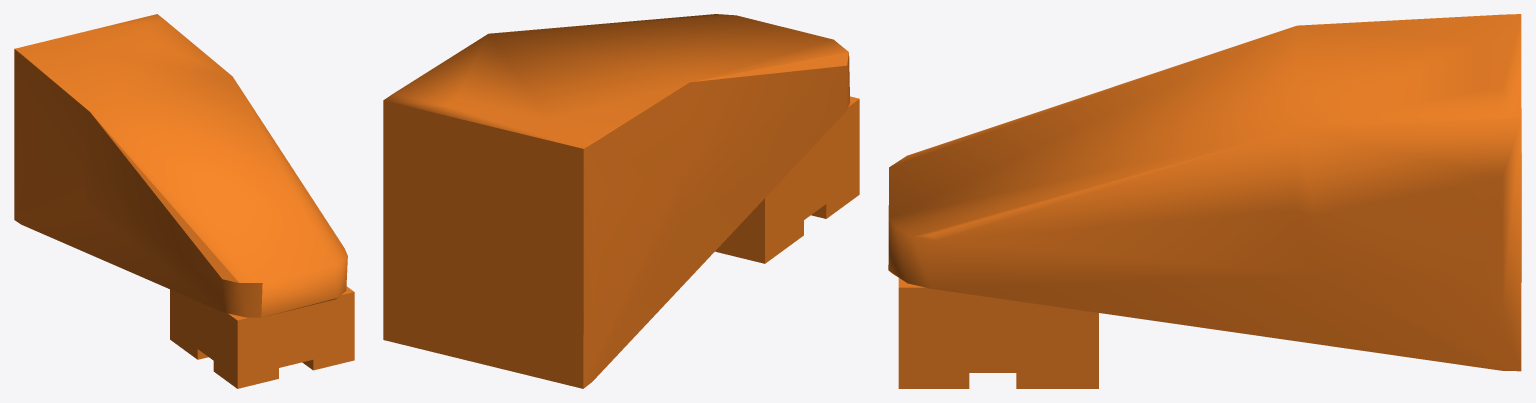
The picture shows the model from 3 angles, left to right: view 1: azimuth 30°, elevation 25°; view 2: azimuth 150°, elevation 25°; view 3: azimuth 270°, elevation 25°; orthographic projection. The views are drawn at different scales.
Parts seen in each view (by area): view 1: gripper_frame; view 2: gripper_frame; view 3: gripper_frame.
Boxes of the visible parts, x1,y1,x2,y2 form: gripper_frame: (14, 14, 354, 388); gripper_frame: (383, 14, 859, 388); gripper_frame: (888, 14, 1521, 388).
Bounding box in the file's own units: 0.021 × 0.0263 × 0.0537.
